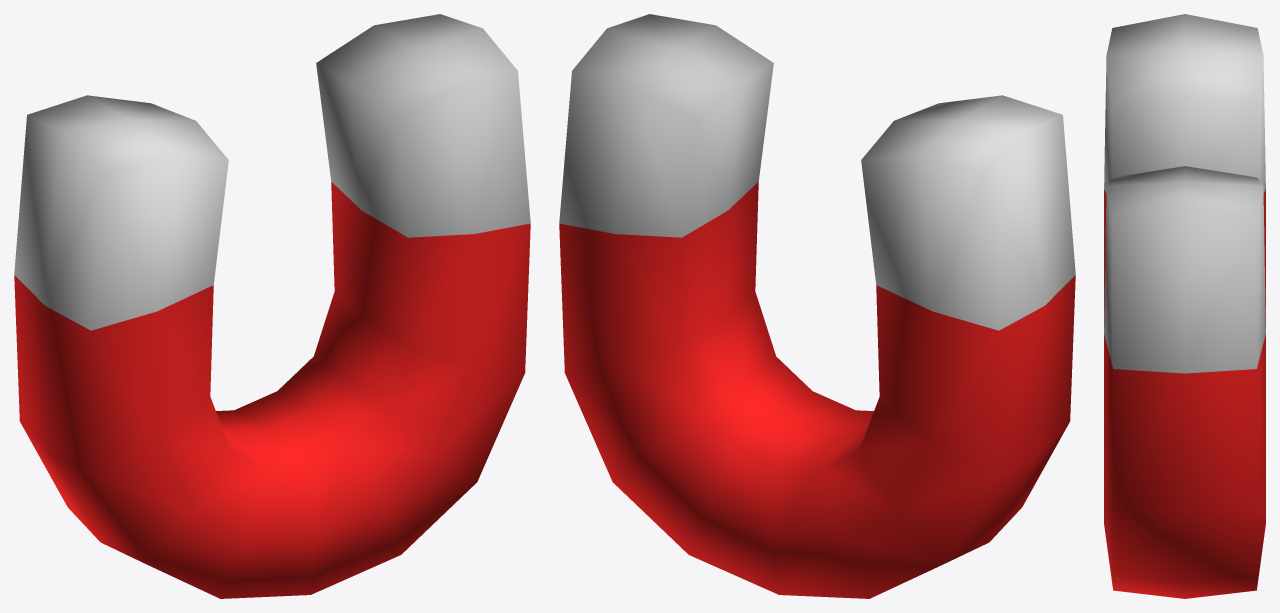
The model's file is powerup_magnet.dae.
3 views of the same model, side by side, from view 1: azimuth 30°, elevation 25°; view 2: azimuth 150°, elevation 25°; view 3: azimuth 270°, elevation 25° (orthographic). The views are drawn at different scales.
Parts seen in each view (by area): view 1: icon_magnet; view 2: icon_magnet; view 3: icon_magnet.
Part boxes in pixels (bbox=[...]): icon_magnet: bbox=[14, 14, 530, 598]; icon_magnet: bbox=[559, 14, 1075, 598]; icon_magnet: bbox=[1104, 14, 1265, 598].
Size of the model in its own units: 0.6285 by 0.2067 by 0.6532.
